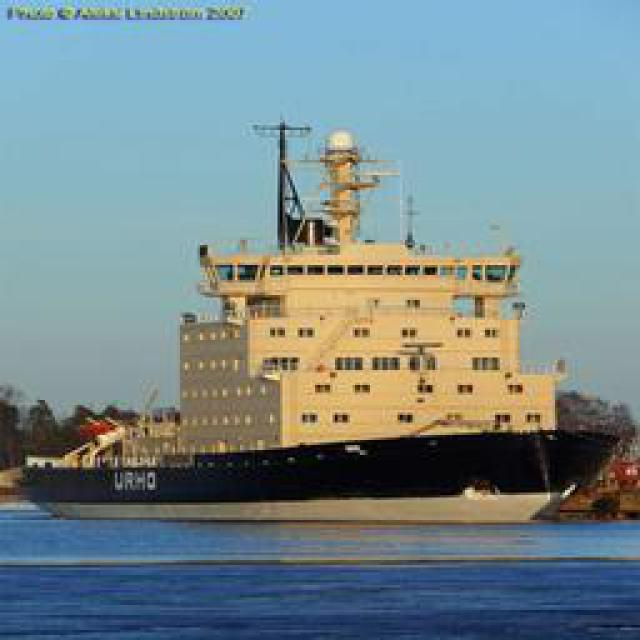Ship: (16, 129, 634, 534)
